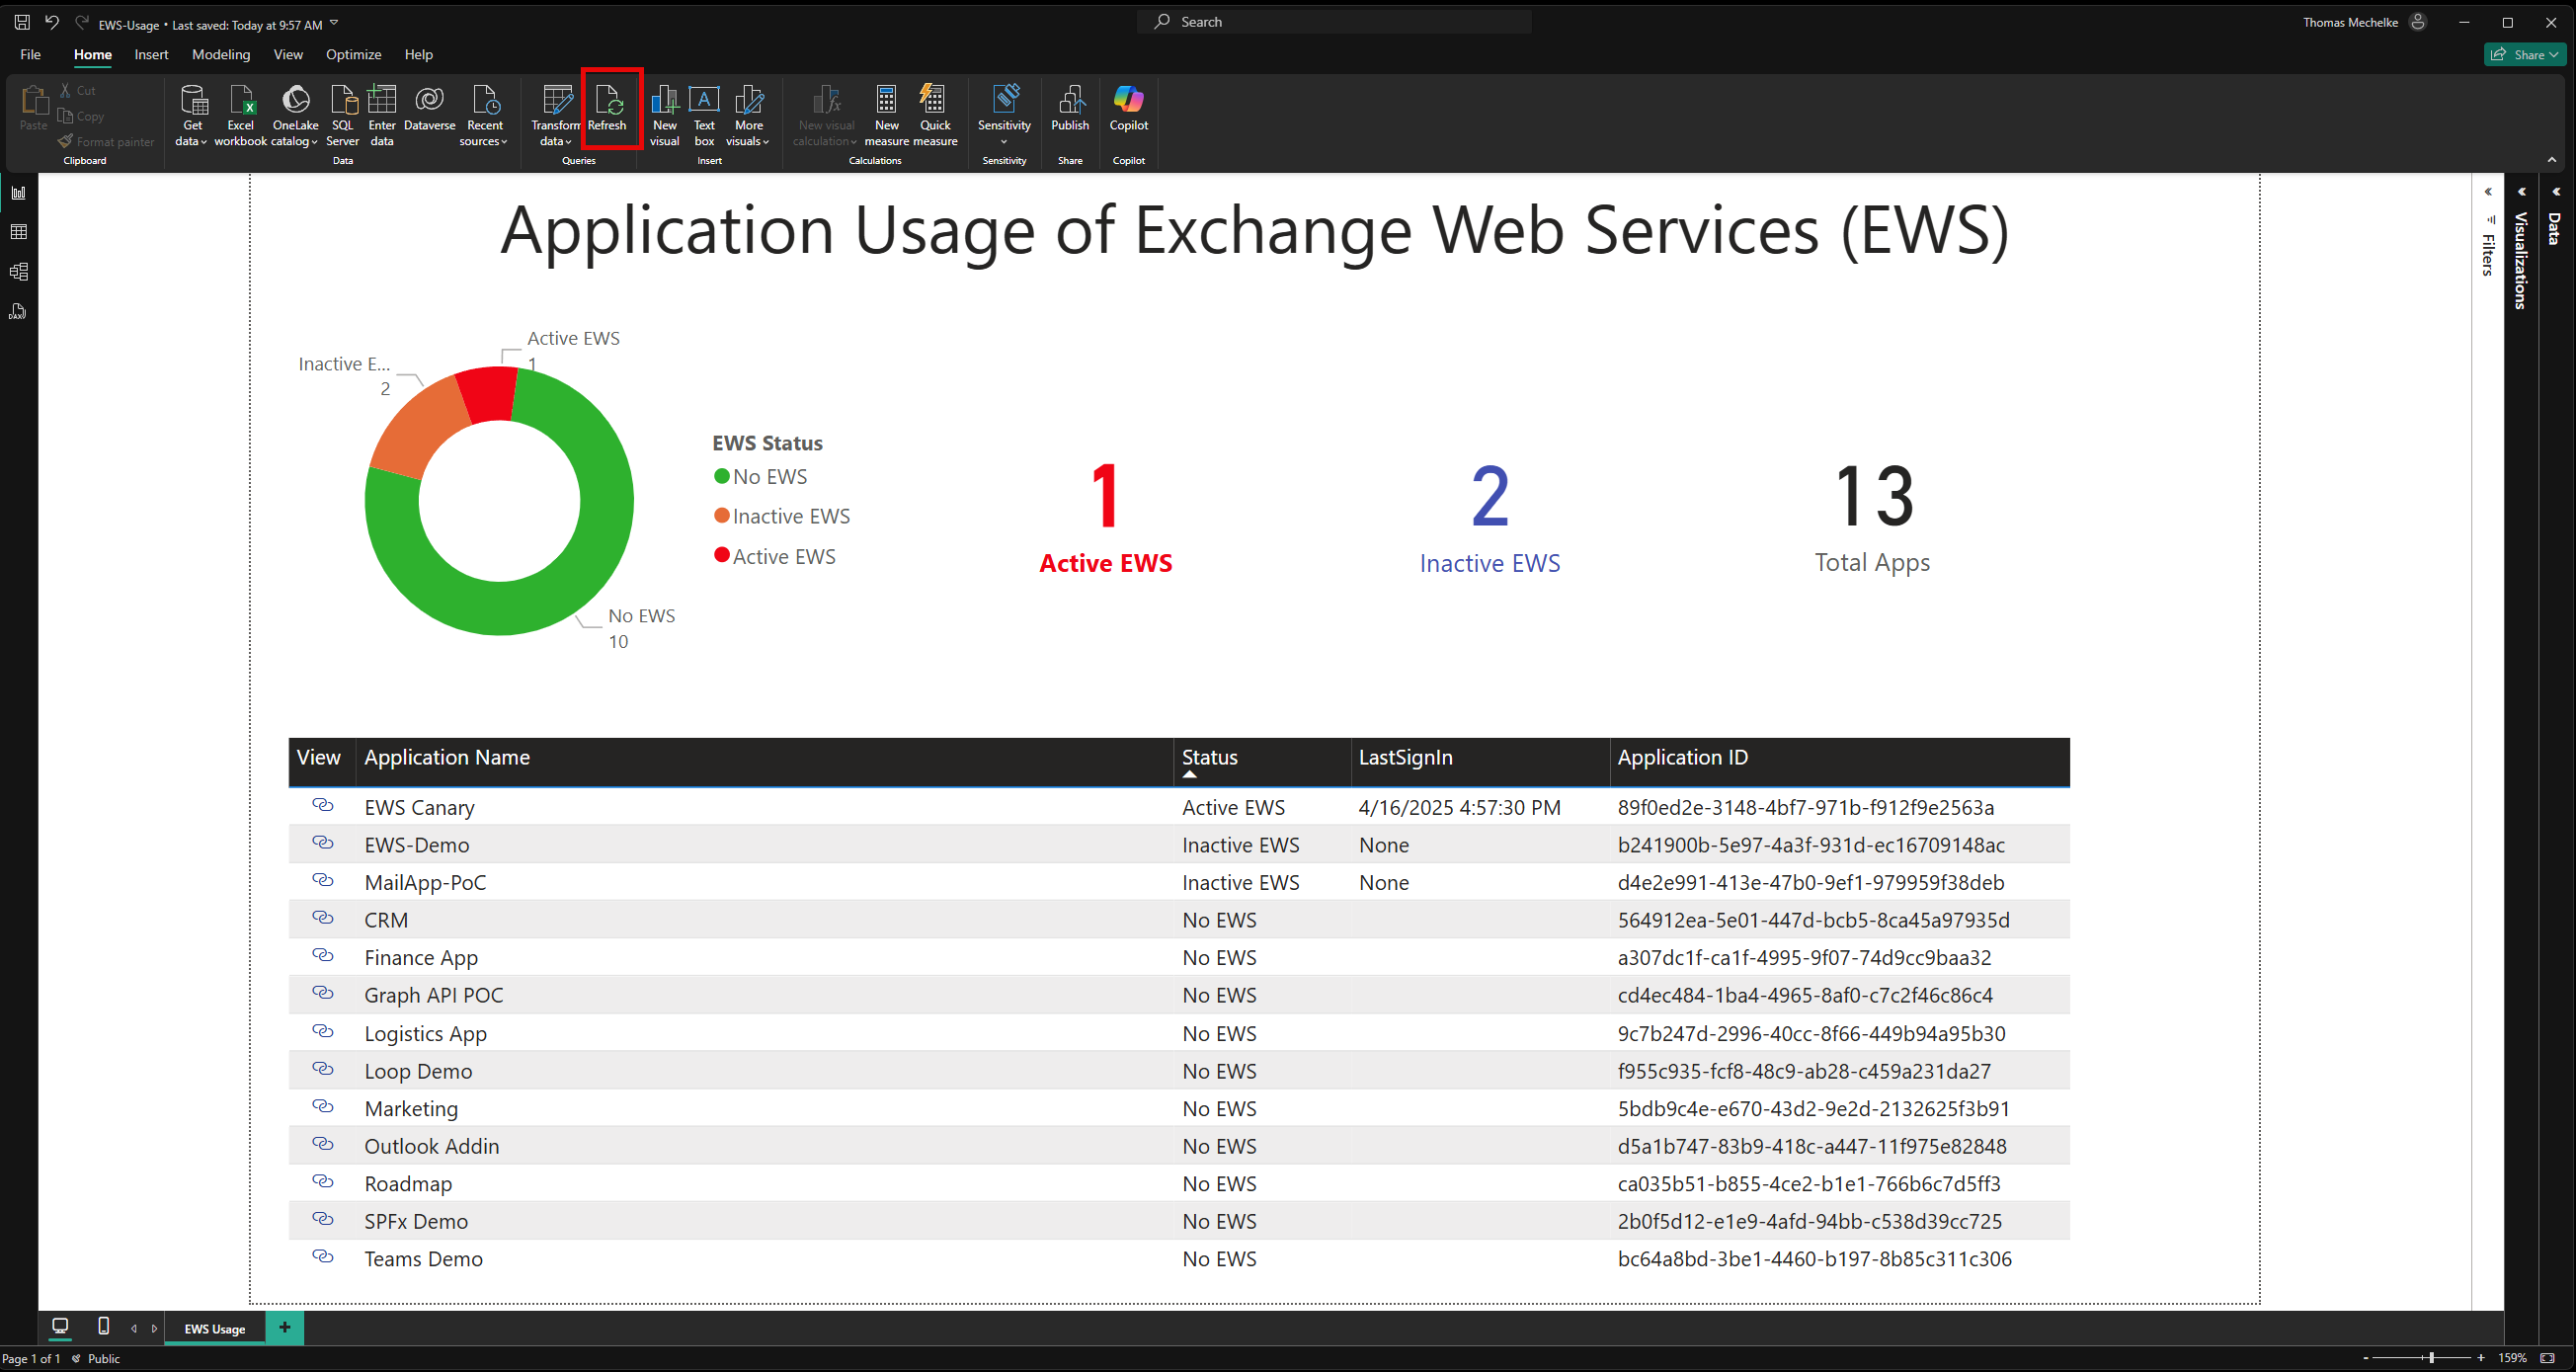

What the dashboard file says about the page in this screenshot:
{"tool":"powerbi","page":{"name":"EWS Usage","canvas":[1280,720],"ordinal":0},"visuals":[{"type":"donutChart","title":"App Count By EWS Usage","fields":{"Category":["EWSUsage.EwsStatus"],"Y":["CountNonNull(EWSUsage.EwsStatus)"]},"box":[18.1,71.1,378.7,276.4],"z":0},{"type":"tableEx","fields":{"Values":["EWSUsage.EntraLink","EWSUsage.displayName","EWSUsage.EwsStatus","EWSUsage.LastSignIn","EWSUsage.appId"]},"box":[18.1,355,1226.6,365],"z":1000},{"type":"card","fields":{"Values":["CountNonNull(EWSUsage.UsesEws)"]},"box":[919.7,124.2,228.4,171],"z":2000},{"type":"card","fields":{"Values":["EWSUsage.Active EWS"]},"box":[430.5,124.2,229,171],"z":3000},{"type":"card","fields":{"Values":["EWSUsage.Inactive EWS"]},"box":[675.1,124.2,229,171],"z":4000},{"type":"textbox","box":[0,0,1280.3,85.5],"z":5000}]}

Visuals, with their boxes on the page's 1280x720 design canvas (x1, y1, x2, y2). These are canvas units, not pixel positions in the 2576x1372 screenshot, which may show the page scaled, cropped or inside an application window:
"App Count By EWS Usage" donutChart: 18/71/397/348
tableEx - EWSUsage.EntraLink x EWSUsage.displayName: 18/355/1245/720
card - CountNonNull(EWSUsage.UsesEws): 920/124/1148/295
card - EWSUsage.Active EWS: 430/124/660/295
card - EWSUsage.Inactive EWS: 675/124/904/295
textbox: 0/0/1280/86
